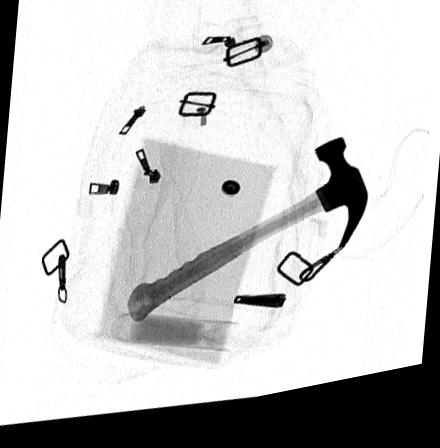Hammer: (125, 150, 367, 328)
